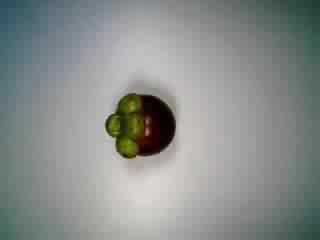mangosteen: (101, 89, 175, 161)
